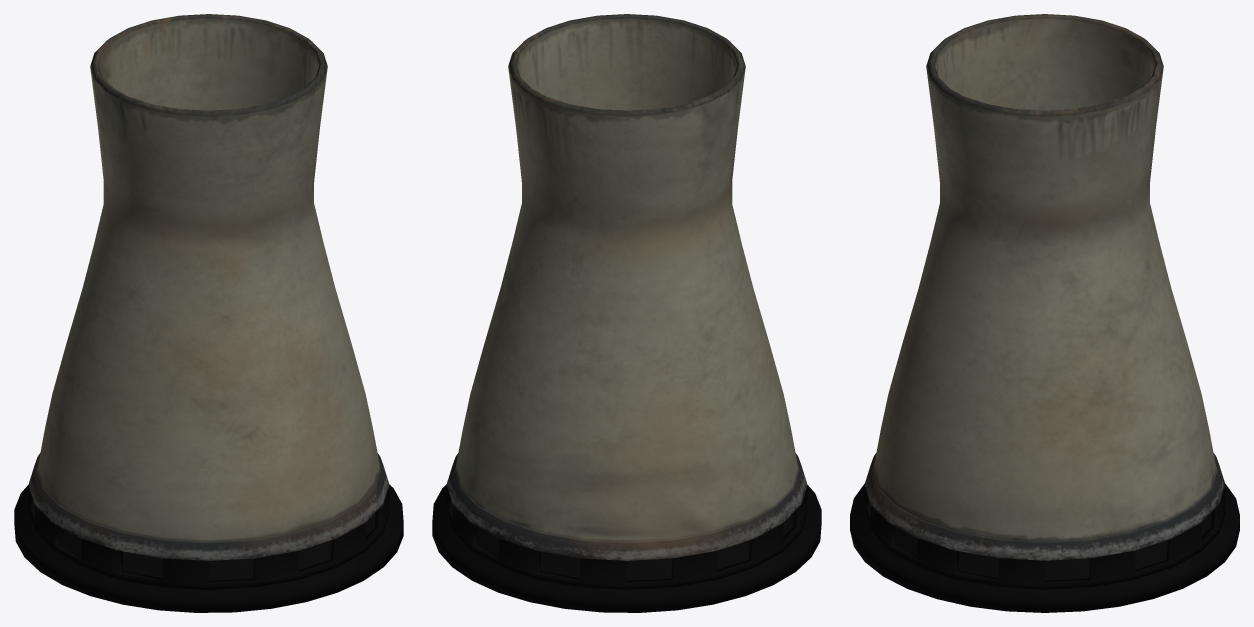
Rendered from Cooling_Tower.glb.
3 views of the same model, side by side, from view 1: azimuth 30°, elevation 25°; view 2: azimuth 150°, elevation 25°; view 3: azimuth 270°, elevation 25° (orthographic).
Visible parts, largest first — view 1: Cooling_Towers; view 2: Cooling_Towers; view 3: Cooling_Towers.
Boxes of the visible parts, x1=… form: Cooling_Towers: x1=14, y1=14, x2=403, y2=612; Cooling_Towers: x1=432, y1=14, x2=821, y2=612; Cooling_Towers: x1=850, y1=14, x2=1239, y2=612.
Size of the model in its own units: 0.0679 by 0.0901 by 0.0679.
Materials: 2 (1 with a texture image).
